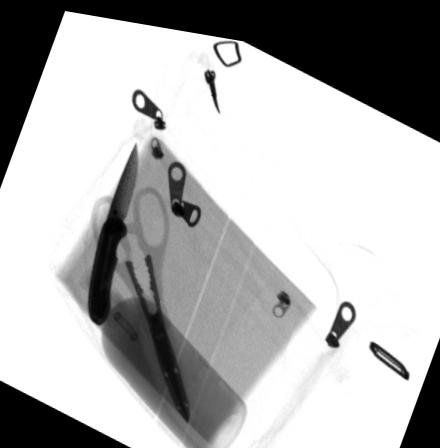Knife: (89, 136, 139, 322)
Scissors: (88, 178, 189, 415)
